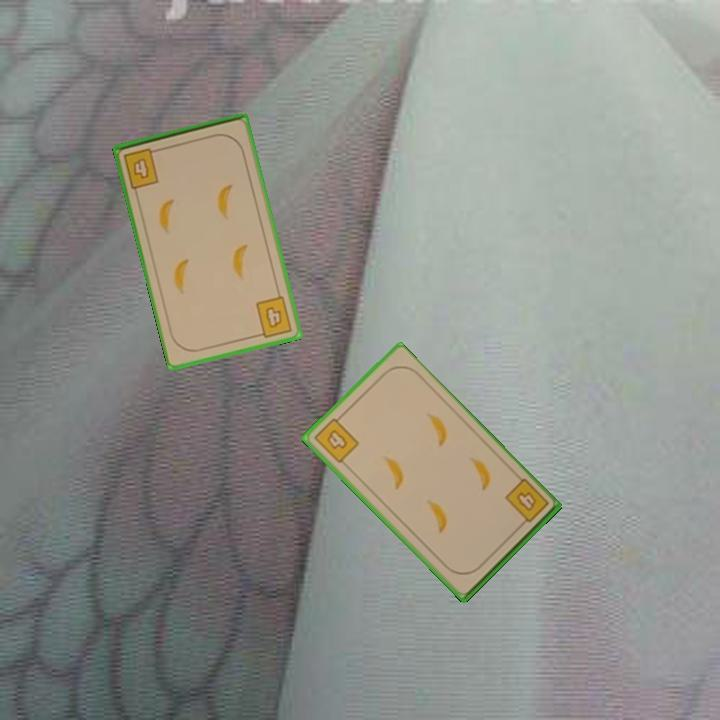4b: (310, 411, 362, 466), (501, 475, 552, 531), (252, 293, 295, 340), (120, 144, 163, 191)
